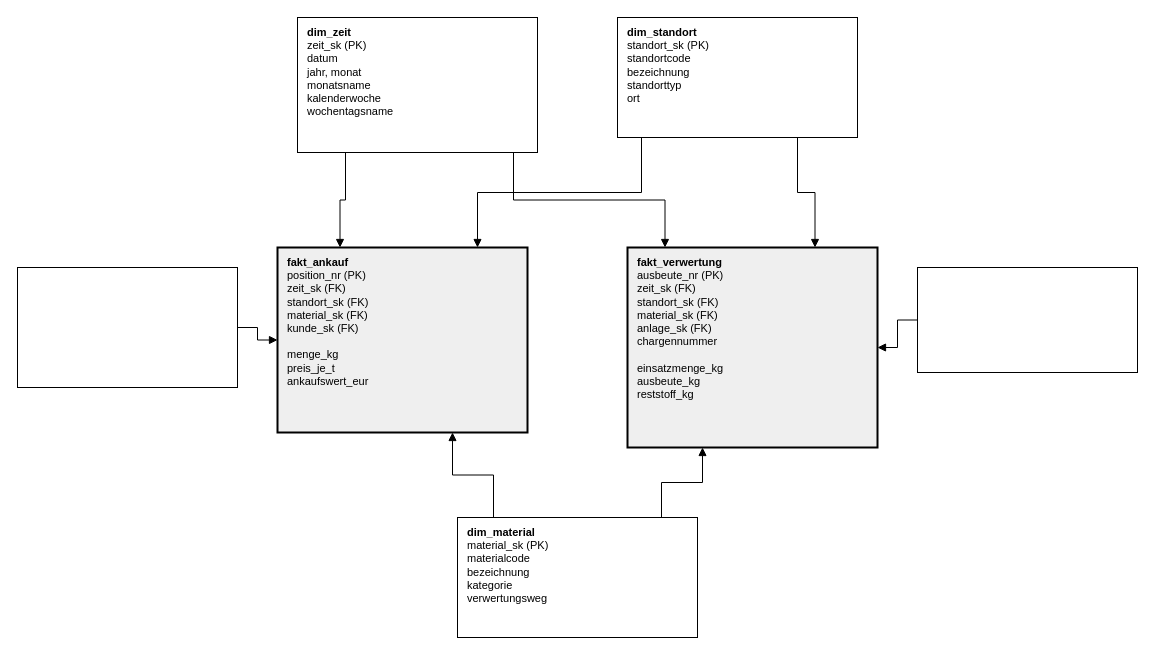
Image size: 1155x655. Some labels were removed from this diagram. Here are the shapes that lost their labels. From the top down, the box of each, then its label:
(16, 266, 238, 388): dim_kunde kunde_sk (PK) kundennummer name kundentyp ort
(916, 266, 1138, 372): dim_anlage anlage_sk (PK) anlagenname anlagentyp kapazitaet_t_h
